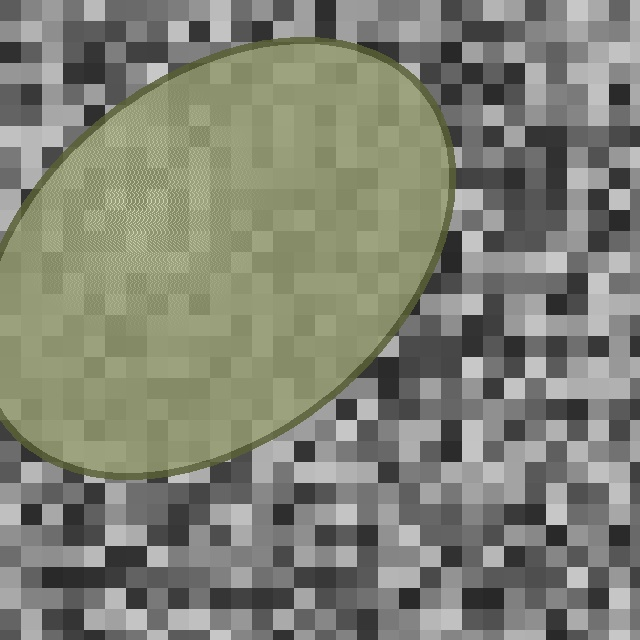lens: (0, 41, 452, 475)
